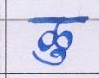u_matra: (32, 49, 69, 66)
